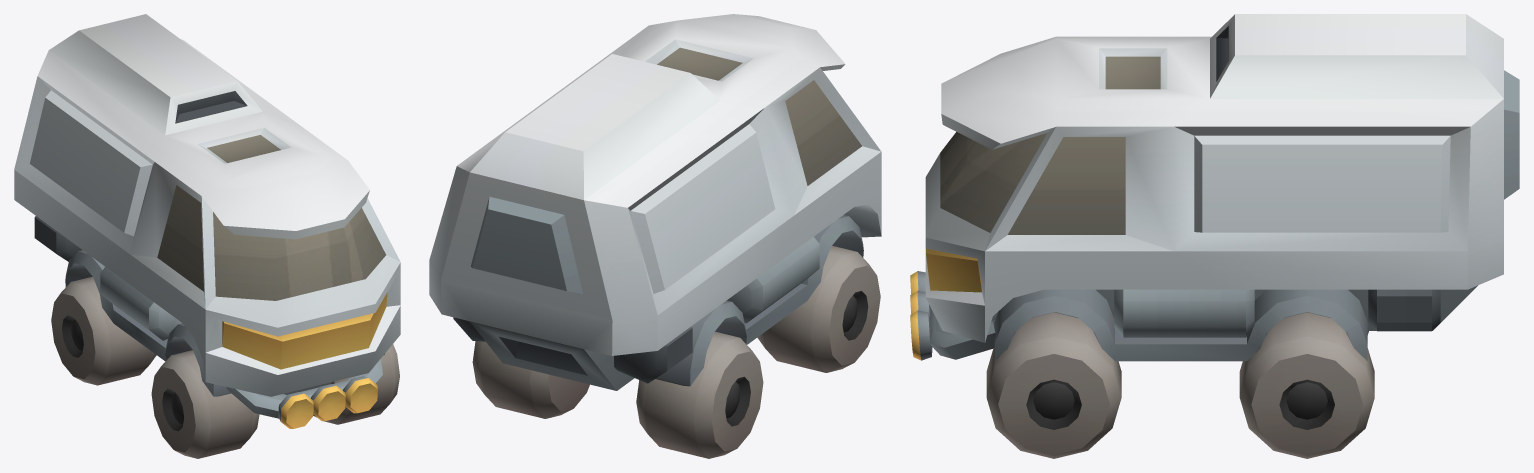
Rendered from spacetruck_large.gltf.
The picture shows the model from 3 angles, left to right: view 1: azimuth 30°, elevation 25°; view 2: azimuth 150°, elevation 25°; view 3: azimuth 270°, elevation 25°; orthographic projection. The views are drawn at different scales.
Visible parts, largest first — view 1: spacetruck_large, spacetruck_large_wheel_front_right, spacetruck_large_wheel_rear_right, spacetruck_large_wheel_front_left; view 2: spacetruck_large, spacetruck_large_wheel_rear_right, spacetruck_large_wheel_front_right, spacetruck_large_wheel_rear_left; view 3: spacetruck_large, spacetruck_large_wheel_front_left, spacetruck_large_wheel_rear_left.
Boxes of the visible parts, x1=… form: spacetruck_large: x1=14, y1=14, x2=400, y2=428; spacetruck_large_wheel_front_right: x1=151, y1=350, x2=259, y2=458; spacetruck_large_wheel_rear_right: x1=51, y1=276, x2=156, y2=385; spacetruck_large_wheel_front_left: x1=313, y1=344, x2=399, y2=424; spacetruck_large: x1=429, y1=14, x2=881, y2=390; spacetruck_large_wheel_rear_right: x1=636, y1=331, x2=763, y2=458; spacetruck_large_wheel_front_right: x1=757, y1=245, x2=880, y2=372; spacetruck_large_wheel_rear_left: x1=472, y1=341, x2=589, y2=418; spacetruck_large: x1=910, y1=14, x2=1519, y2=361; spacetruck_large_wheel_front_left: x1=986, y1=312, x2=1121, y2=458; spacetruck_large_wheel_rear_left: x1=1239, y1=312, x2=1374, y2=458.
Size of the model in its own units: 0.5046 by 0.6855 by 1.03.
Materials: 1 (1 with a texture image).
